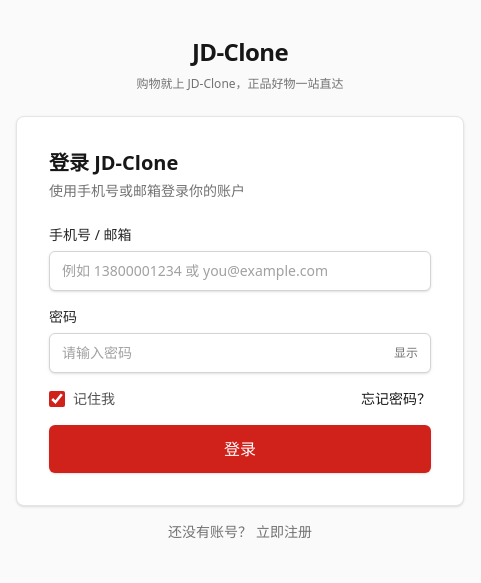
LoginPage 集成测试 › 1003 错误码映射为『账号或密码错误』
The image size is (481, 583).
Type "13800001234" into the field labelled "手机号 / 邮箱".
click(240, 271); type("13800001234")  # box left=62, top=261, right=418, bottom=281
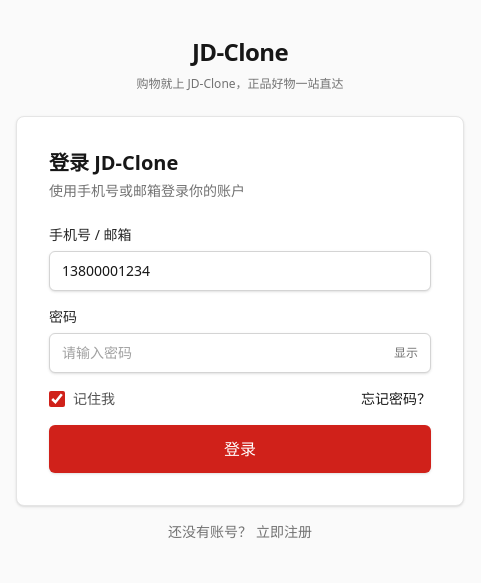
Type "Test1234" into the password field labelled "密码".
click(224, 353); type("Test1234")  # box left=62, top=343, right=386, bottom=363
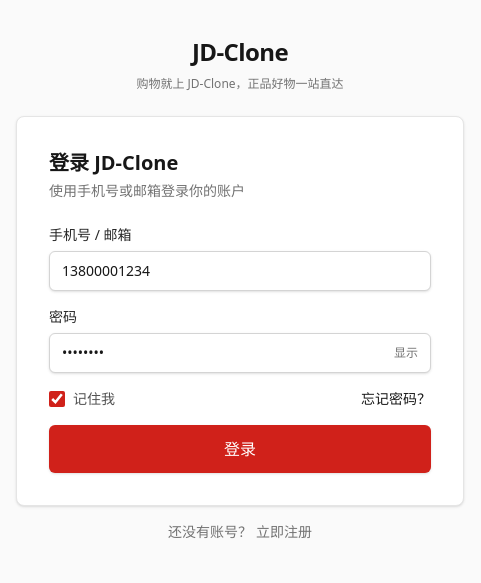
Click the button "登录".
click(240, 449)  # box left=49, top=425, right=431, bottom=473
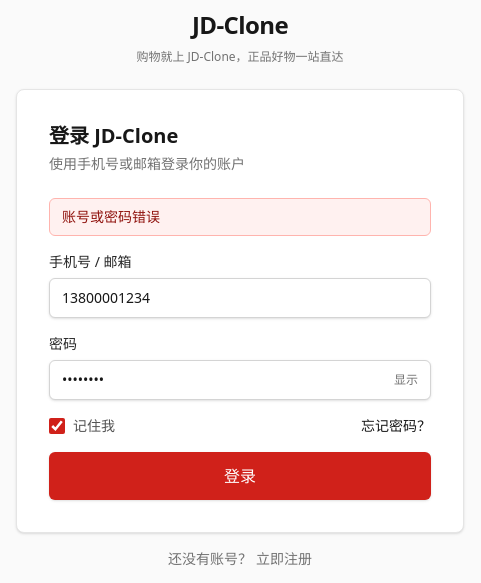
Result: the text "账号或密码错误" is shown at left=49, top=198, right=431, bottom=236
